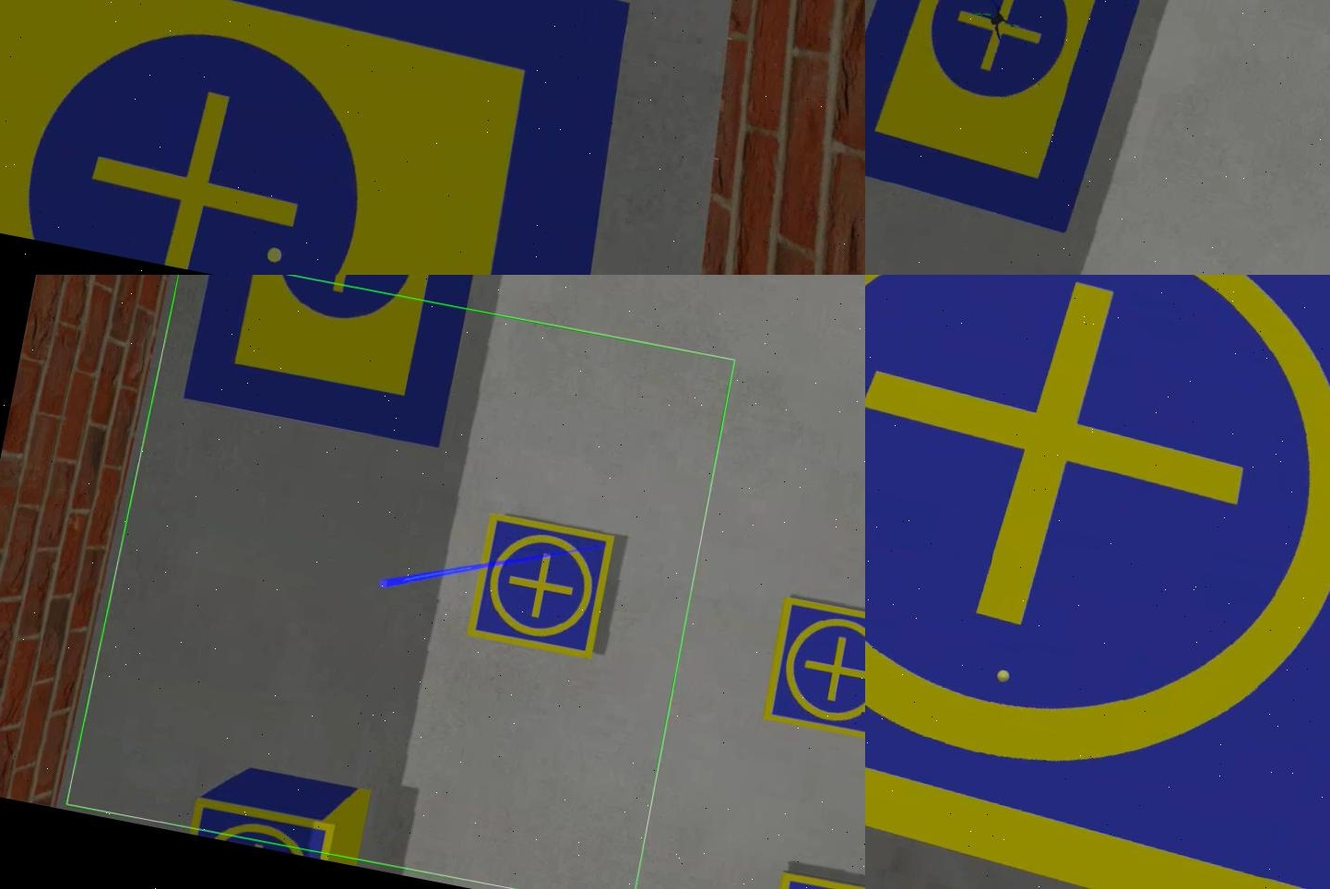large_base: (0, 1, 652, 275), (864, 1, 1178, 242), (179, 275, 496, 454)
small_base: (864, 275, 1328, 889), (467, 513, 616, 663), (761, 598, 864, 750), (185, 797, 338, 868), (769, 864, 864, 889)
